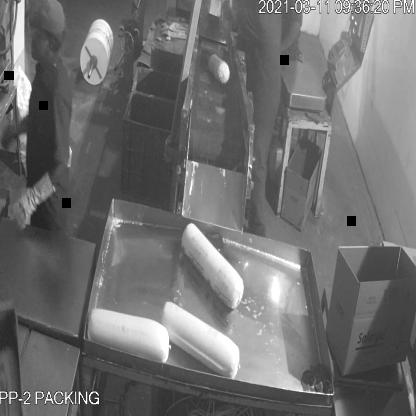glove: (12, 167, 58, 240)
